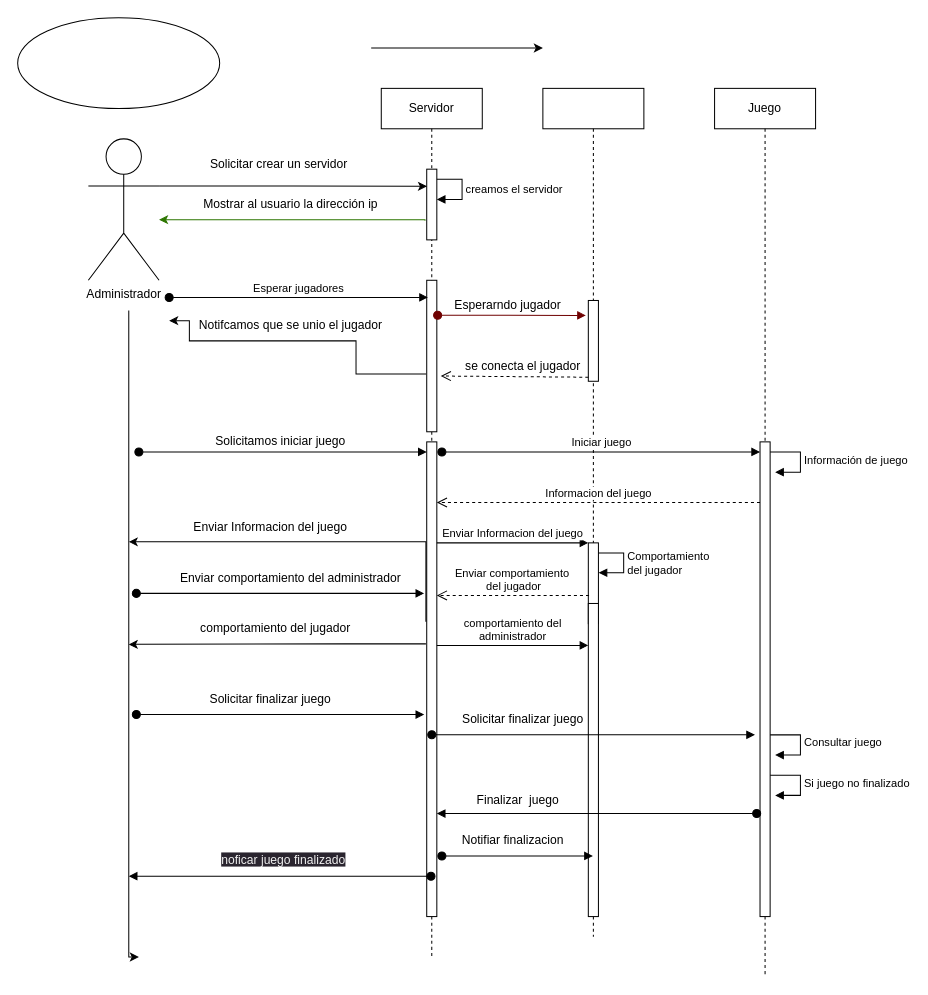
Some shapes in this 928 by 995 pixel diagram are drawn without their labels. The shapes that lost their labels are listed below. From the top down, each one's centre as x and y in pixels, then its label:
At point 118,63: "Crear el servidor".
At point 593,512: "Jugador".
